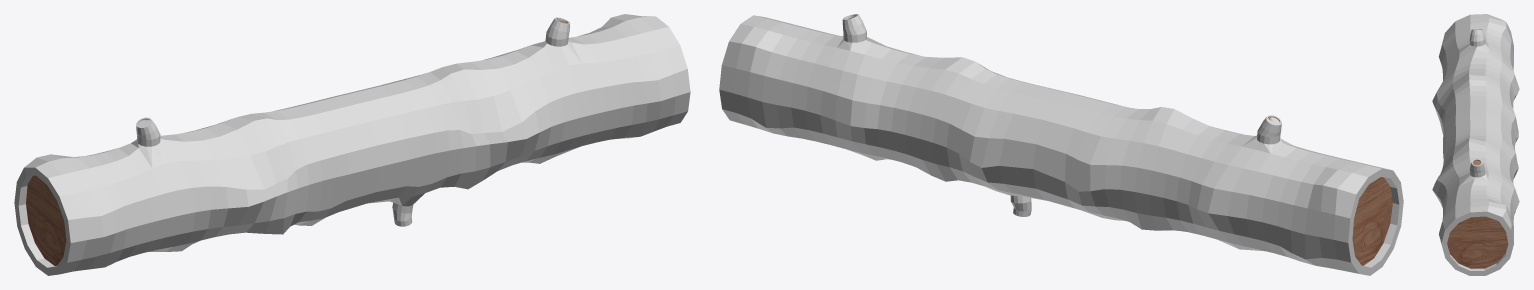
File: log1.fbx
3 views of the same model, side by side, from view 1: azimuth 30°, elevation 25°; view 2: azimuth 150°, elevation 25°; view 3: azimuth 270°, elevation 25° (orthographic). The views are drawn at different scales.
Visible parts, largest first — view 1: kora, Pien; view 2: kora, Pien; view 3: kora, Pien.
Part boxes in pixels (x1,y1,x2,y2): kora: (14, 14, 690, 275); Pien: (26, 20, 566, 265); kora: (719, 14, 1403, 275); Pien: (848, 17, 1392, 265); kora: (1432, 14, 1519, 275); Pien: (1447, 160, 1508, 268).
Size of the model in its own units: 1603 by 396 by 299.
2 materials, 1 textured.
